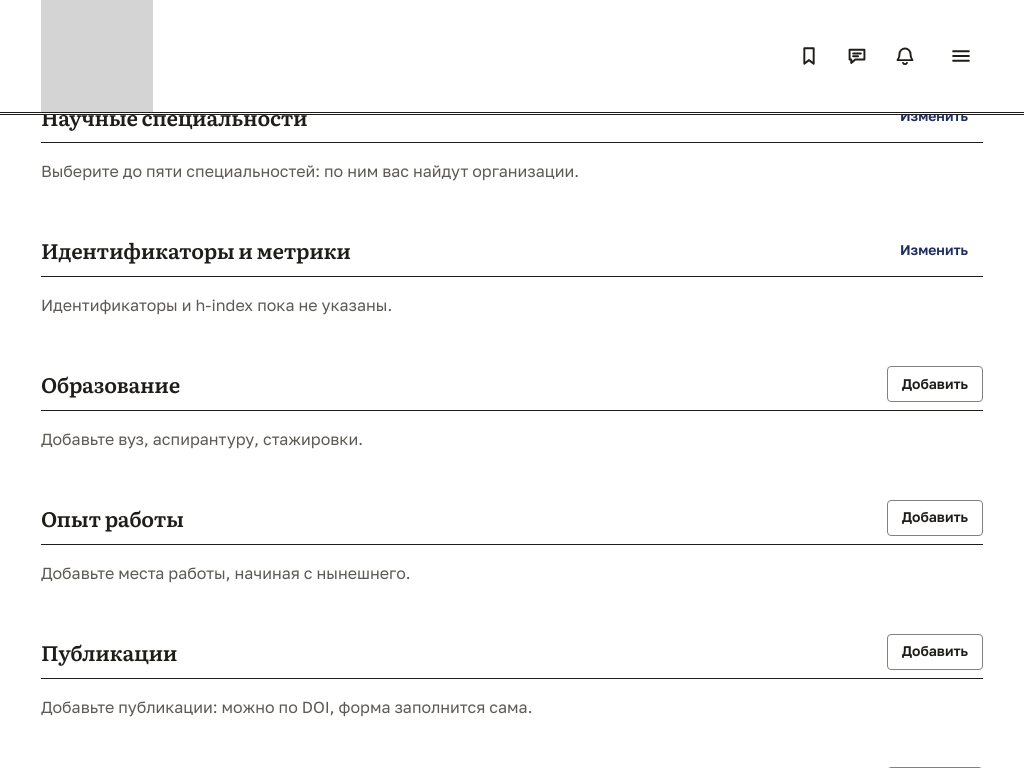
Test: items › shows the server problems under the fields and keeps the window open
(page scrolled)
Click the button with aria-label "Добавить в раздел «Образование»".
click(935, 384)  # box [887, 366, 983, 402]
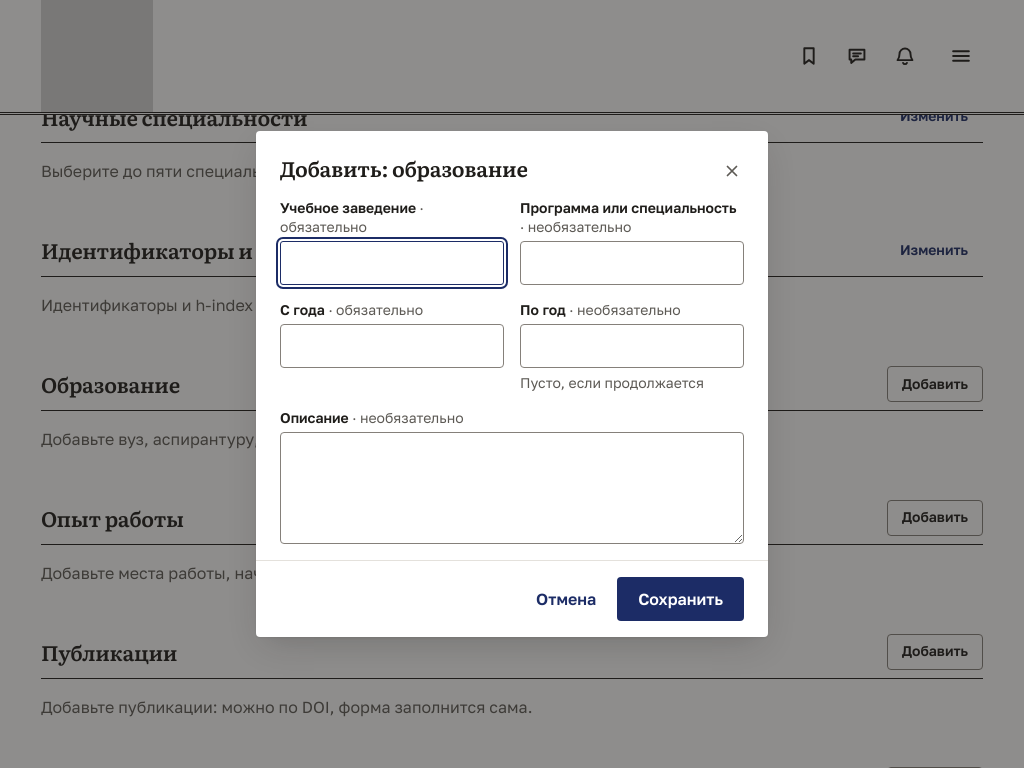
Click the button "Сохранить".
click(681, 599)  # box [617, 577, 744, 621]
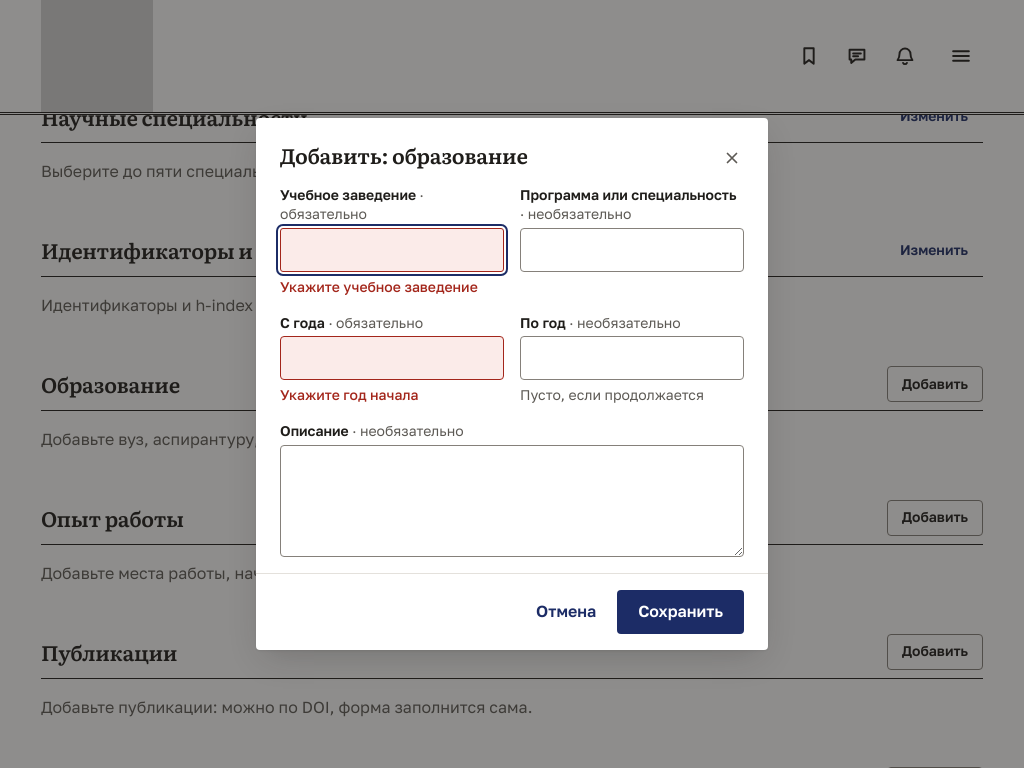
Result: the dialog is shown at [256, 118, 768, 650]
Result: the text "Укажите учебное заведение" is shown at [280, 276, 504, 298]
Result: the text "Укажите год начала" is shown at [280, 386, 419, 403]
